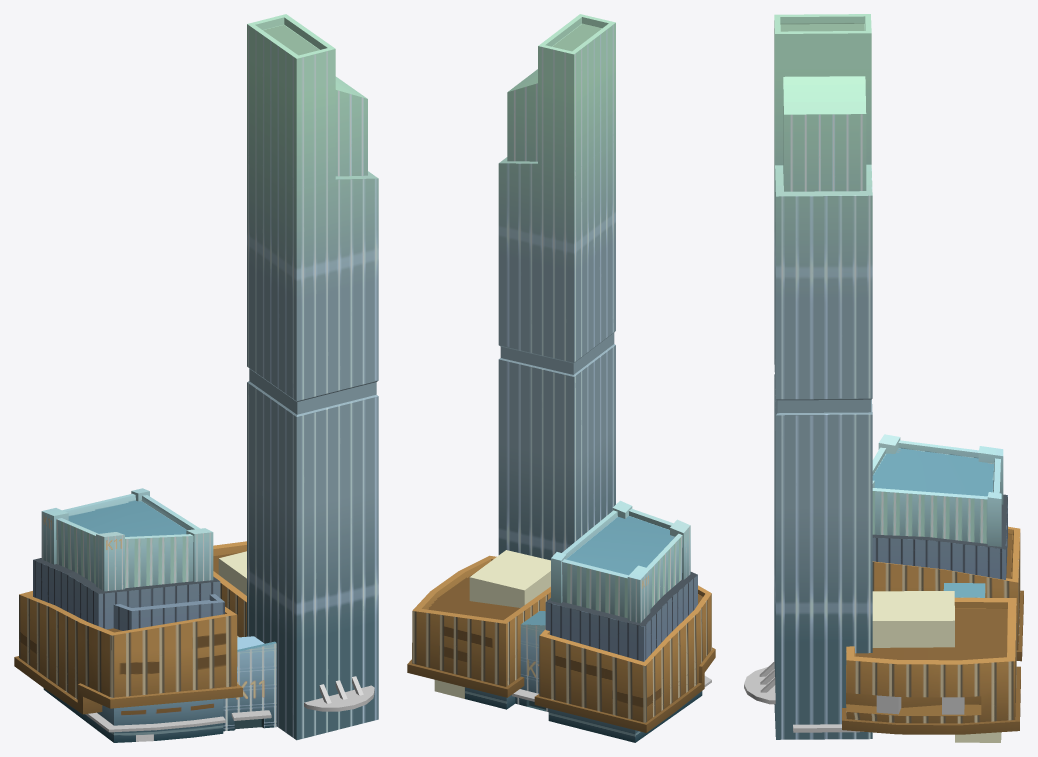
3 views of the same model, side by side, from view 1: azimuth 30°, elevation 25°; view 2: azimuth 150°, elevation 25°; view 3: azimuth 270°, elevation 25° (orthographic). The views are drawn at different scales.
Parts seen in each view (by area): view 1: 3Dbuilding_GZ_K11gwyszx; view 2: 3Dbuilding_GZ_K11gwyszx; view 3: 3Dbuilding_GZ_K11gwyszx.
Boxes of the visible parts, x1,y1,x2,y2 form: 3Dbuilding_GZ_K11gwyszx: (14,14,378,742); 3Dbuilding_GZ_K11gwyszx: (407,14,715,742); 3Dbuilding_GZ_K11gwyszx: (744,14,1023,742).
Bounding box in the file's own units: 224 × 530 × 196.
1 material, 1 textured.
